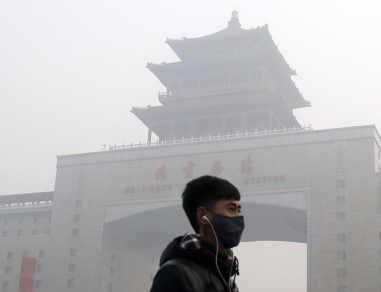person: (147, 173, 245, 292)
